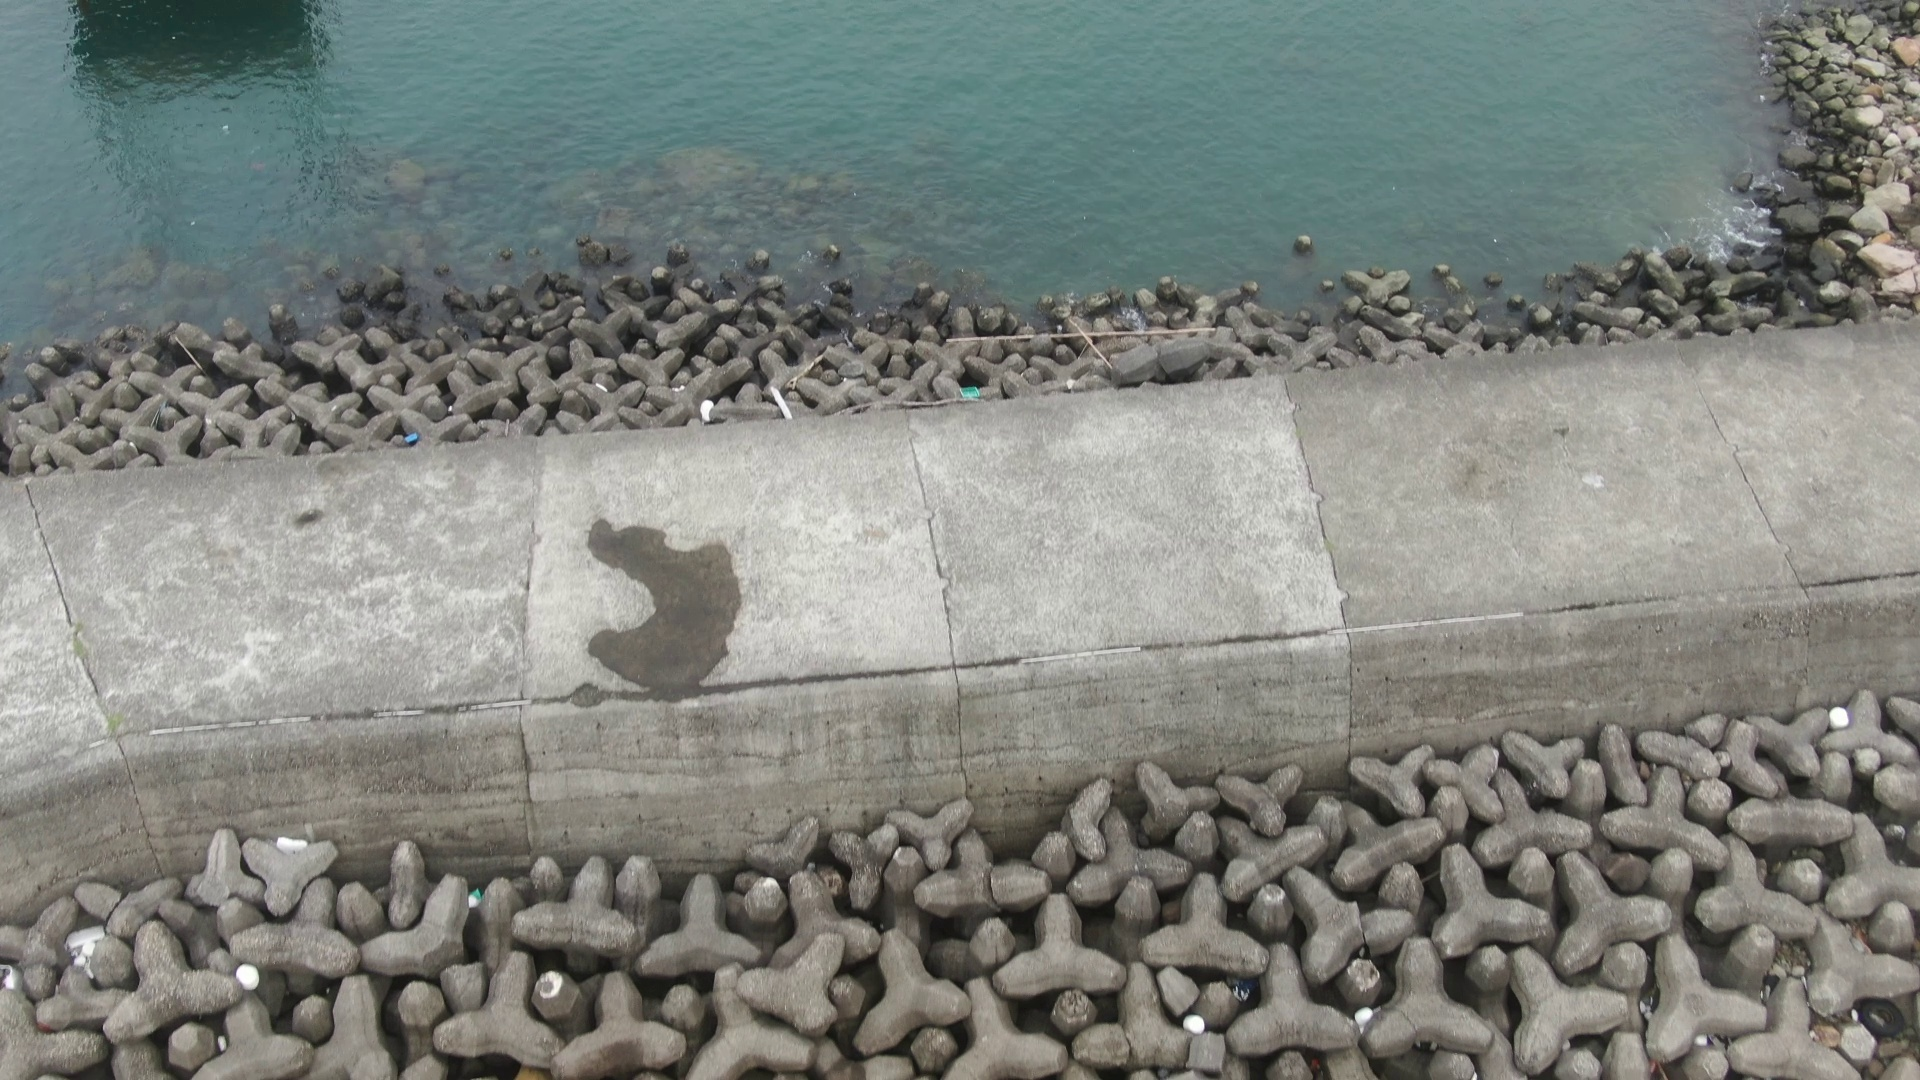garbage: (1850, 992, 1913, 1047), (1825, 702, 1870, 738), (236, 952, 266, 997), (949, 377, 992, 401), (462, 880, 489, 915), (400, 427, 433, 448)
